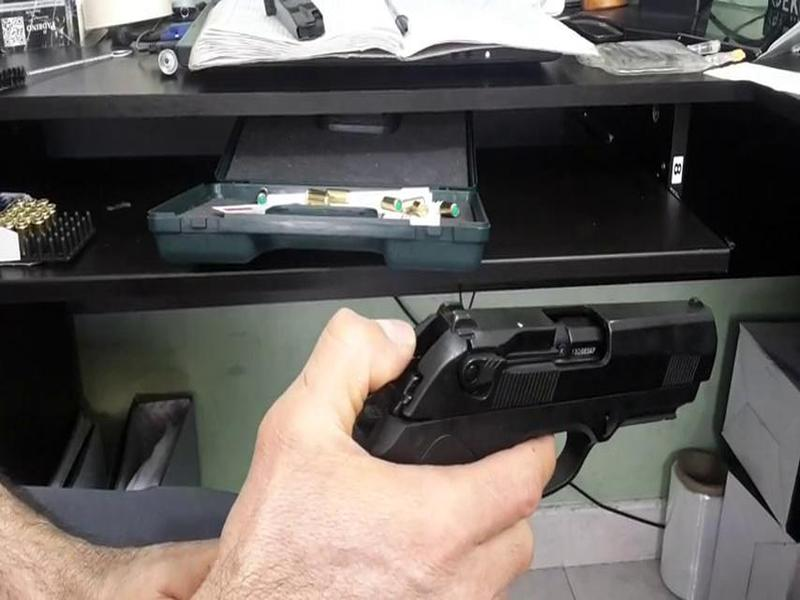Pistola: (346, 262, 717, 527)
